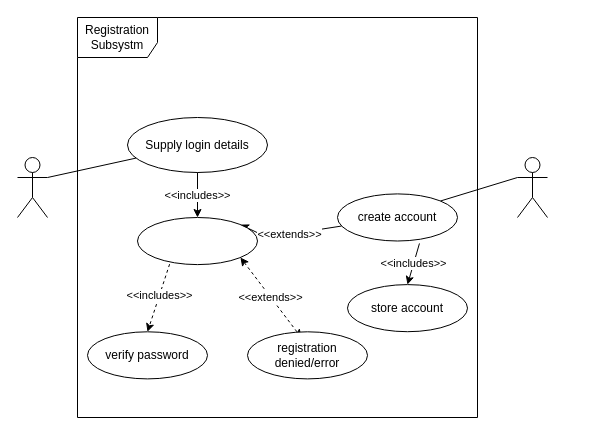
Some shapes in this 596 by 435 pixel diagram are drawn without their labels. Each missing label, with the centre of its shape:
"Session Manager" belongs at point 532,187.
"User" belongs at point 32,187.
"verify details" belongs at point 197,240.
